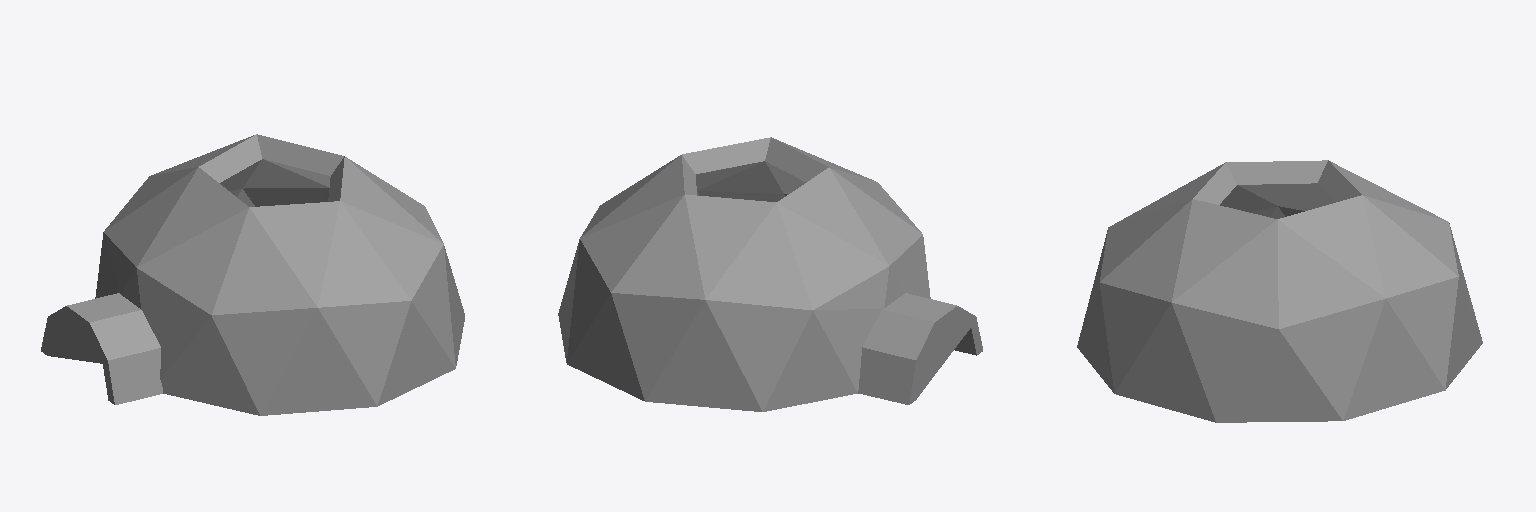
The model's file is Igloo.obj.
3 views of the same model, side by side, from view 1: azimuth 30°, elevation 25°; view 2: azimuth 150°, elevation 25°; view 3: azimuth 270°, elevation 25° (orthographic).
Parts seen in each view (by area): view 1: Cylinder.000_Cylinder.005; view 2: Cylinder.000_Cylinder.005; view 3: Cylinder.000_Cylinder.005.
Boxes of the visible parts, x1=… form: Cylinder.000_Cylinder.005: x1=41, y1=134, x2=464, y2=415; Cylinder.000_Cylinder.005: x1=558, y1=137, x2=982, y2=411; Cylinder.000_Cylinder.005: x1=1077, y1=160, x2=1482, y2=422.
Bounding box in the file's own units: 1.49 × 0.6521 × 1.47.